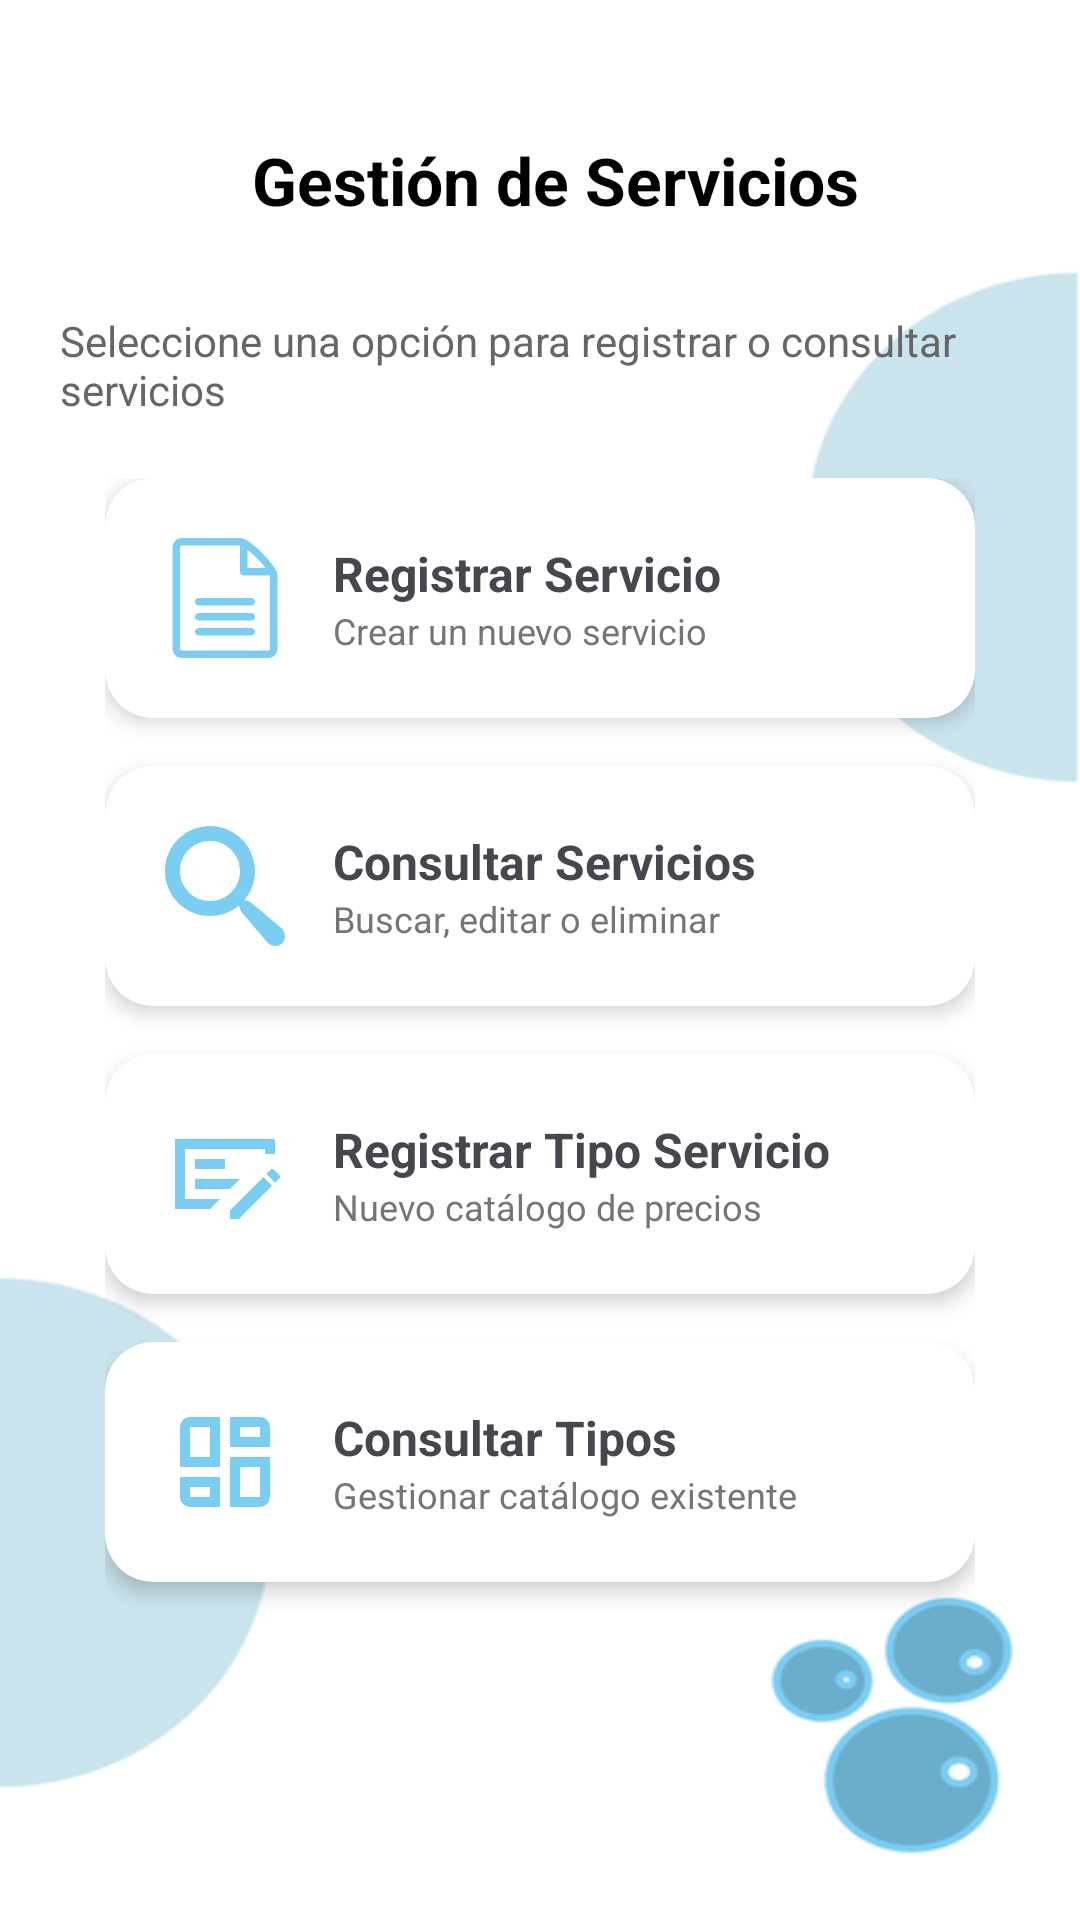

Where icons sit on this 1080×1920 app screen, as Rect(x1, y1, x2, y2):
con catalog: Rect(180, 1417, 270, 1507)
reg catalog: Rect(175, 1139, 280, 1219)
